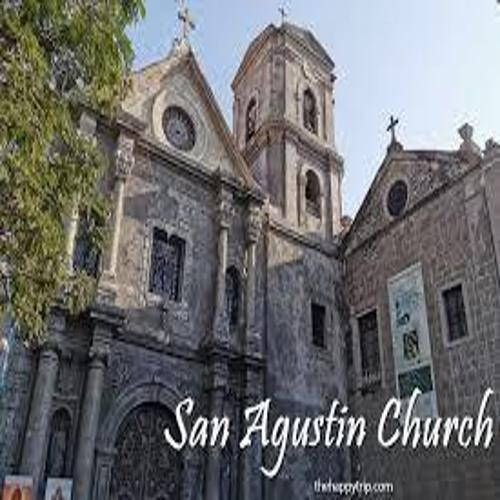San Agustin Church: (74, 1, 358, 500)
